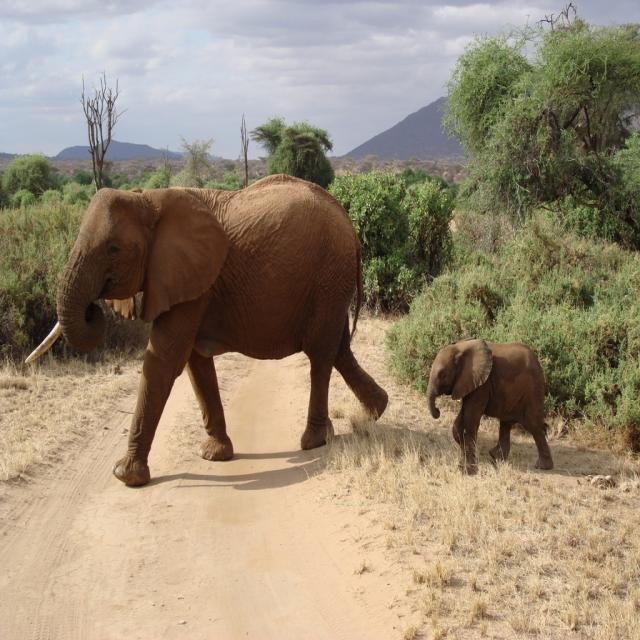Elephant: (25, 173, 389, 486), (426, 335, 554, 474)
